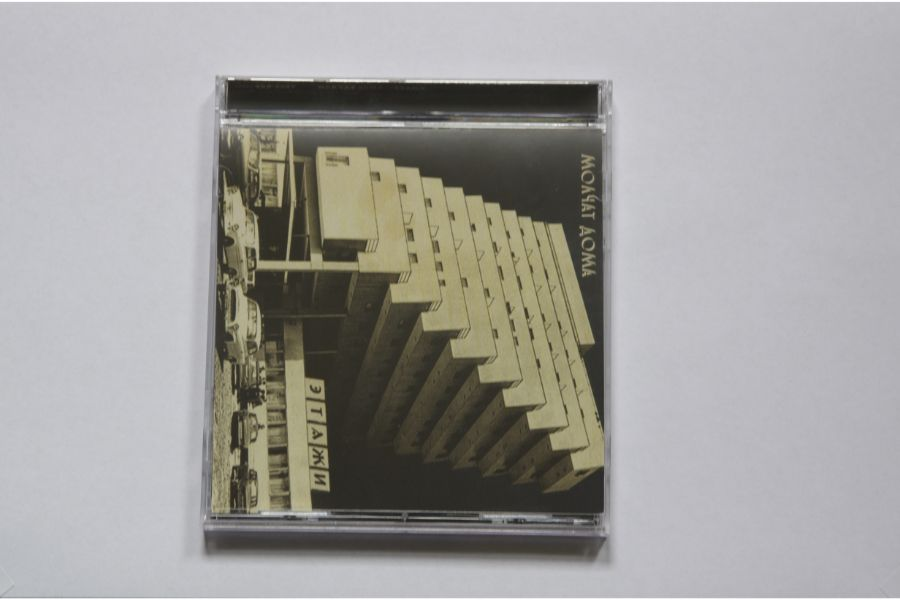album: (202, 75, 609, 542)
